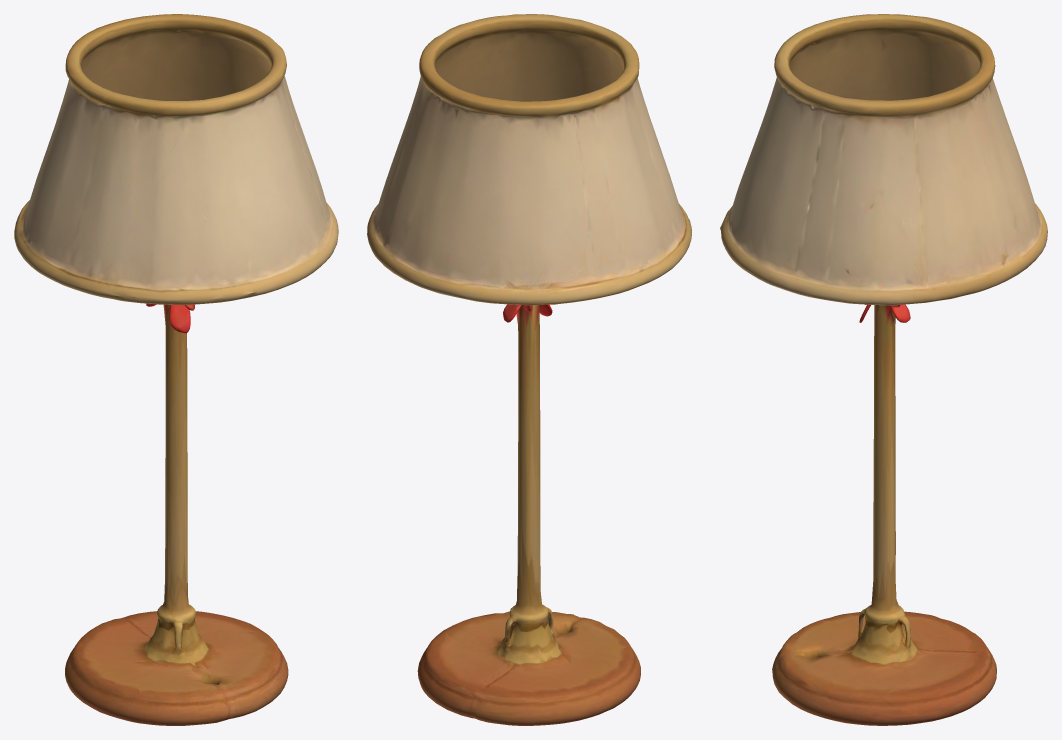
The model's file is room-standing-lamp.glb.
The picture shows the model from 3 angles, left to right: view 1: azimuth 30°, elevation 25°; view 2: azimuth 150°, elevation 25°; view 3: azimuth 270°, elevation 25°; orthographic projection.
Visible parts, largest first — view 1: tripo_node_a344ea74-02e9-4228-b224-4f7be33ffa9c; view 2: tripo_node_a344ea74-02e9-4228-b224-4f7be33ffa9c; view 3: tripo_node_a344ea74-02e9-4228-b224-4f7be33ffa9c.
Boxes of the visible parts, x1=… form: tripo_node_a344ea74-02e9-4228-b224-4f7be33ffa9c: x1=14, y1=14, x2=338, y2=725; tripo_node_a344ea74-02e9-4228-b224-4f7be33ffa9c: x1=367, y1=14, x2=691, y2=725; tripo_node_a344ea74-02e9-4228-b224-4f7be33ffa9c: x1=720, y1=14, x2=1047, y2=725.
Bounding box in the file's own units: 0.465 × 0.9792 × 0.4662.
1 material, 1 textured.
